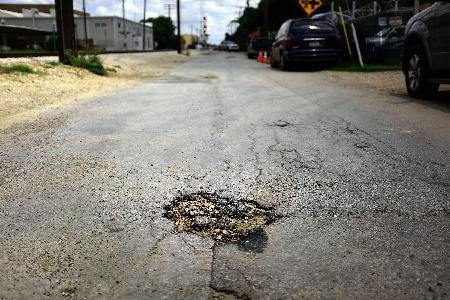pothole: (161, 191, 278, 243), (206, 281, 250, 298)
